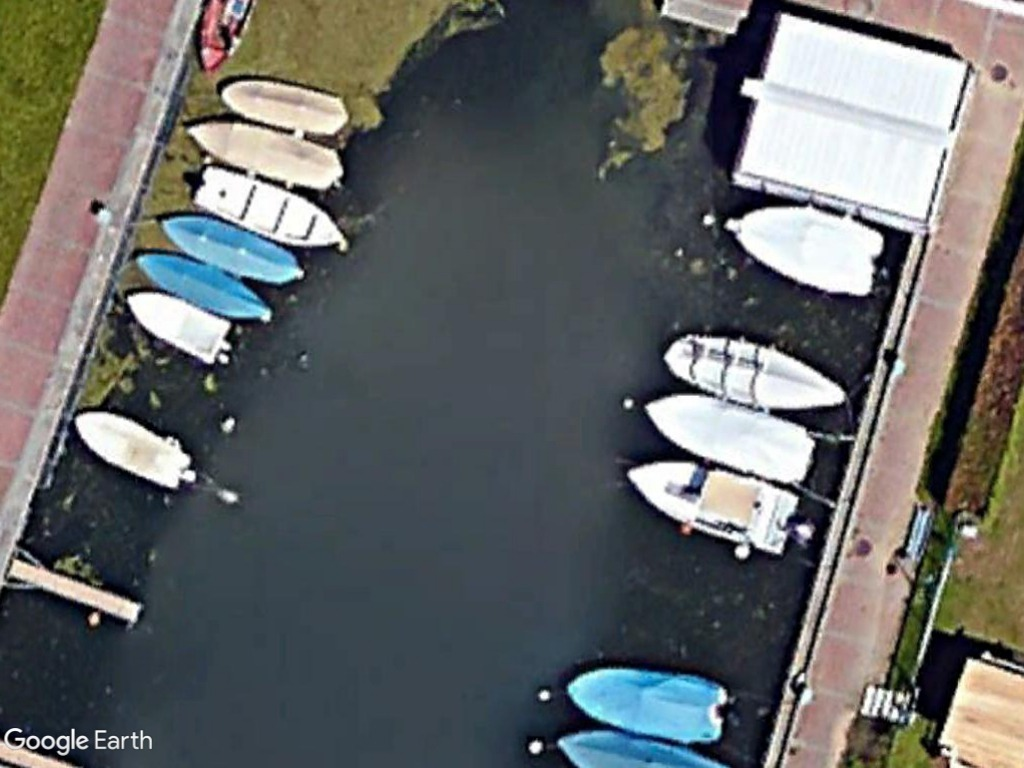boat: (616, 450, 809, 559), (641, 384, 820, 491), (719, 194, 889, 304), (659, 321, 851, 418), (188, 153, 358, 249), (561, 659, 731, 746), (179, 114, 345, 195), (152, 204, 308, 289), (129, 246, 278, 324), (117, 286, 245, 370), (72, 407, 197, 491), (214, 73, 353, 137)
